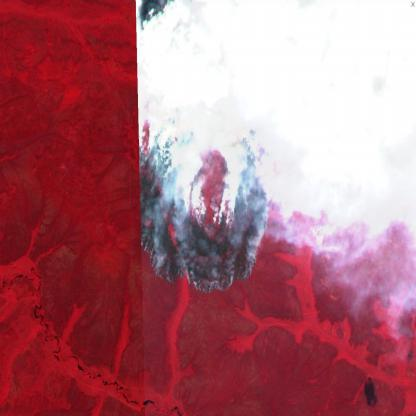fire: (135, 87, 273, 296)
